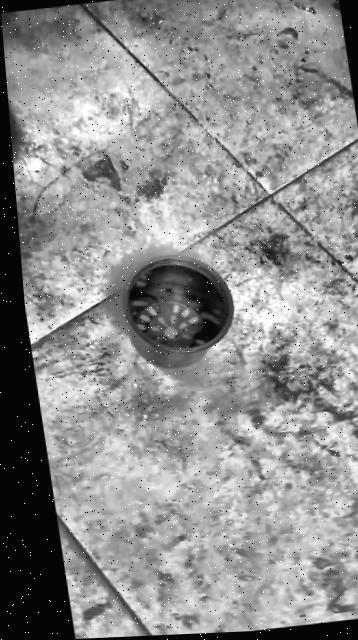pot: (113, 248, 241, 371)
